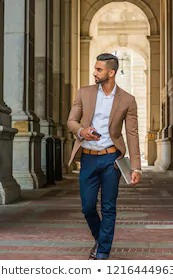F_M_suit jacket: (64, 81, 145, 175)
F_belt: (80, 146, 118, 157)
F_dress pants: (75, 153, 120, 247)
